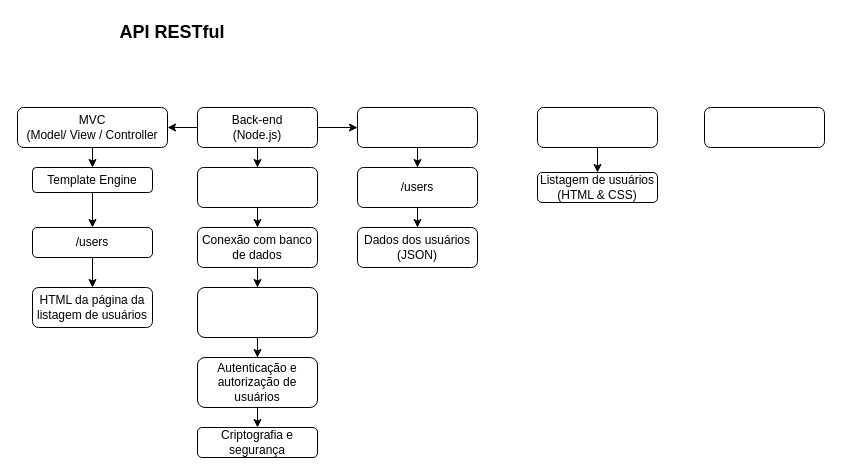
This 842x475 diagram has some shape labels left out. The shapes that lost their labels are listed below. From the top down, each one's box as (x1, y1, x2, y2) in pixels, then its label:
(356, 106, 478, 148): REST
(536, 106, 658, 148): Front-End (ReactJS)
(704, 106, 824, 148): Mobile (React Native)
(196, 166, 318, 208): Regras de Negócio
(196, 286, 318, 338): Envio de e-mails ou conexão com serviços externos
